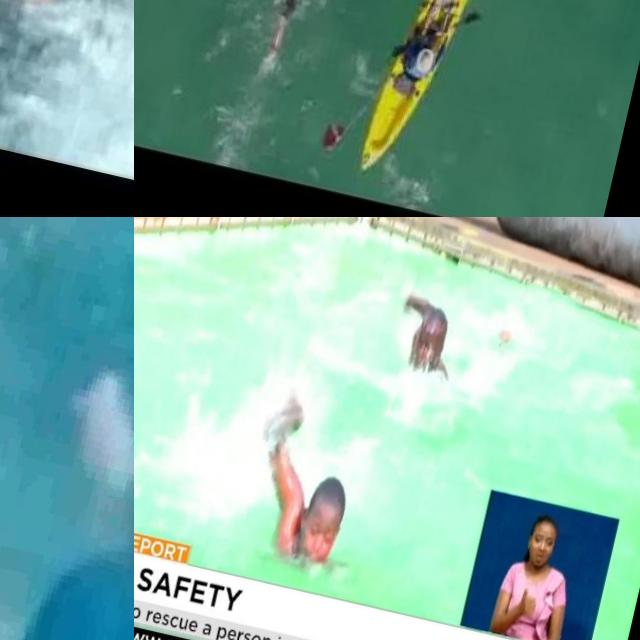drowning: (61, 367, 134, 582)
swimming: (222, 369, 398, 597), (372, 265, 524, 416), (0, 0, 134, 112), (259, 0, 335, 74)
